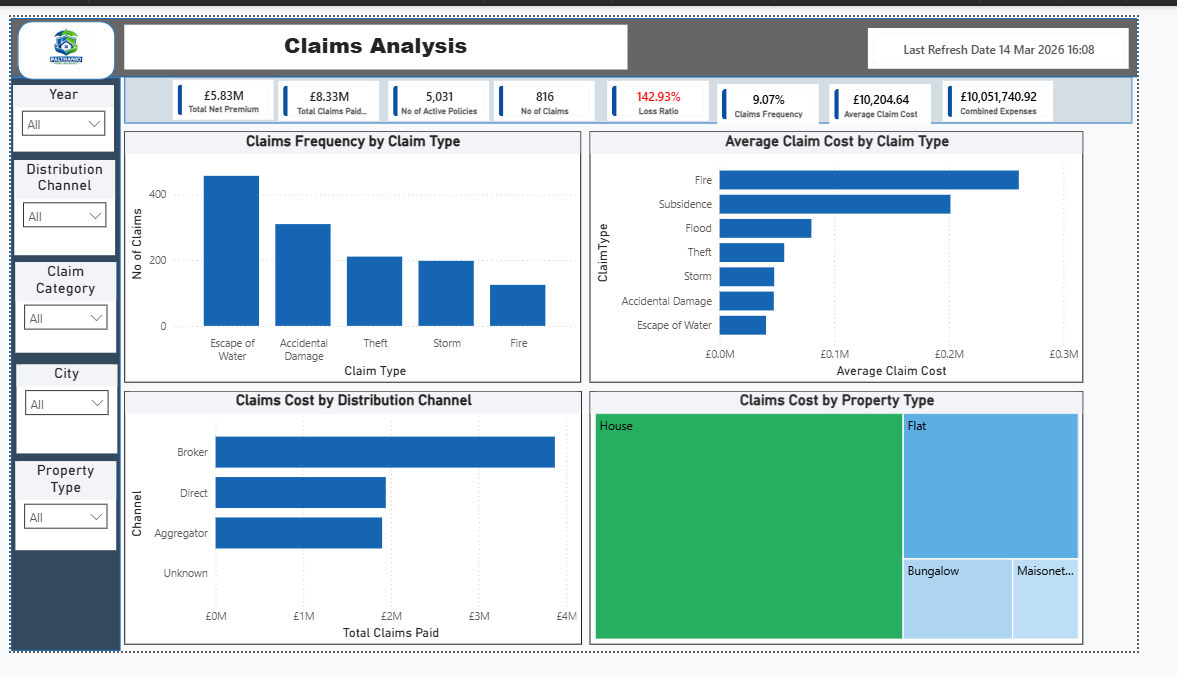

What the dashboard file says about the page in this screenshot:
{"tool":"powerbi","page":{"name":"Claims Analysis","canvas":[1280,720],"ordinal":1},"visuals":[{"type":"group","id":"g1","title":"KPIs ","box":[129.1,67.8,1145.7,54.5],"z":0},{"type":"shape","title":"KPI Background","box":[129.1,67.8,1145.7,53.5],"z":0,"group":"g1"},{"type":"cardVisual","title":"Total Revenue","fields":{"Data":["_Measures.TotalNetPremium"]},"box":[183.7,71.5,114.2,45],"z":1000,"group":"g1"},{"type":"cardVisual","title":"Average Claim Cost","fields":{"Data":["_Measures.Combined Expenses"]},"box":[1058.8,72.5,125,46.2],"z":1000},{"type":"cardVisual","title":"Total Claims Paid","fields":{"Data":["_Measures.Total Claims Paid (Report)"]},"box":[303.7,72.6,114.2,45],"z":2000,"group":"g1"},{"type":"clusteredColumnChart","title":"Claims Frequency by Claim Type","fields":{"Category":["gold fact_claim_payments.ClaimType"],"Y":["_Measures.No of Claims (Report)"]},"box":[128.9,130,518.9,285],"z":2000},{"type":"cardVisual","title":"Claims Frequency","fields":{"Data":["_Measures.Claims Frequency"]},"box":[803.3,75.9,115,45],"z":3000,"group":"g1"},{"type":"clusteredBarChart","title":"Average Claim Cost by Claim Type","fields":{"Category":["gold dim_claim_type.ClaimType"],"Y":["_Measures.Average Claim Cost"]},"box":[657.8,130,561.1,285.6],"z":3000},{"type":"cardVisual","title":"Loss Ratio","fields":{"Data":["_Measures.Loss Ratio"]},"box":[677.5,72.6,115,45],"z":4000,"group":"g1"},{"type":"clusteredBarChart","title":"Claims Cost by Distribution Channel","fields":{"Y":["_Measures.Total Claims Paid (Report)"],"Category":["gold dim_broker.Channel"]},"box":[128.9,424.4,520,287.8],"z":4000},{"type":"cardVisual","title":"No. Of Active Policies","fields":{"Data":["_Measures.No of Active Policies"]},"box":[428.7,72.6,114.2,45],"z":5000,"group":"g1"},{"type":"treemap","title":"Claims Cost by Property Type","fields":{"Group":["gold dim_address.PropertyType"],"Values":["_Measures.Total Claims Paid (Report)"]},"box":[657.8,424.4,561.1,287.8],"z":5000},{"type":"shape","title":"Deep Blue Header ","box":[0,68.6,124.3,651.4],"z":6000},{"type":"cardVisual","title":"No. Of Claims","fields":{"Data":["_Measures.No of Claims"]},"box":[549.1,72.6,114.2,45],"z":6000,"group":"g1"},{"type":"shape","title":"Deep Blue Header ","box":[0,1.4,1280,67.1],"z":7000},{"type":"cardVisual","title":"Average Claim Cost","fields":{"Data":["_Measures.Average Claim Cost"]},"box":[930,76.8,115.6,45.6],"z":7000,"group":"g1"},{"type":"textbox","title":"Executive Summary","box":[129.2,8.5,571.5,50.8],"z":8000},{"type":"shape","title":"Logo Background","box":[6.9,5.4,110.8,66.2],"z":9000},{"type":"image","title":"Logo","box":[19.4,8.2,85.3,54.1],"z":10000},{"type":"slicer","title":"Year","fields":{"Values":["gold dim_date.YearNumber"]},"box":[2.7,77.3,114.5,75.5],"z":11000},{"type":"slicer","title":"Claim Category","fields":{"Values":["gold dim_claim_type.ClaimType"]},"box":[5.5,279.1,114.5,102.7],"z":12000},{"type":"slicer","title":"City","fields":{"Values":["gold dim_address.City"]},"box":[6.7,394.4,114.4,101.1],"z":13000},{"type":"slicer","title":"Distribution Channel","fields":{"Values":["gold dim_broker.Channel"]},"box":[3.6,162.7,114.5,108.2],"z":14000},{"type":"cardVisual","title":"Average Claim Cost","fields":{"Data":["_Measures.Last Refresh Date"]},"box":[973.3,12.2,296.7,46.7],"z":15000},{"type":"slicer","title":"Property Type","fields":{"Values":["gold dim_address.PropertyType"]},"box":[5.6,504.4,114.4,101.1],"z":16000}]}

Visuals, with their boxes in screenshot pixels (x1, y1, x2, y2), scaled from the page's 1280x720 canvas onto the 1177x677 screenshot:
"KPIs " group: 119 64 1172 115
"KPI Background" shape: 119 64 1172 114
"Total Revenue" cardVisual: 169 67 274 110
"Average Claim Cost" cardVisual: 974 68 1089 112
"Total Claims Paid" cardVisual: 279 68 384 111
"Claims Frequency by Claim Type" clusteredColumnChart: 119 122 596 390
"Claims Frequency" cardVisual: 739 71 844 114
"Average Claim Cost by Claim Type" clusteredBarChart: 605 122 1121 391
"Loss Ratio" cardVisual: 623 68 729 111
"Claims Cost by Distribution Channel" clusteredBarChart: 119 399 597 670
"No. Of Active Policies" cardVisual: 394 68 499 111
"Claims Cost by Property Type" treemap: 605 399 1121 670
"Deep Blue Header " shape: 0 65 114 676
"No. Of Claims" cardVisual: 505 68 610 111
"Deep Blue Header " shape: 0 1 1176 64
"Average Claim Cost" cardVisual: 855 72 961 115
"Executive Summary" textbox: 119 8 644 56
"Logo Background" shape: 6 5 108 67
"Logo" image: 18 8 96 59
"Year" slicer: 2 73 108 144
"Claim Category" slicer: 5 262 110 359
"City" slicer: 6 371 111 466
"Distribution Channel" slicer: 3 153 109 255
"Average Claim Cost" cardVisual: 895 11 1168 55
"Property Type" slicer: 5 474 110 569
